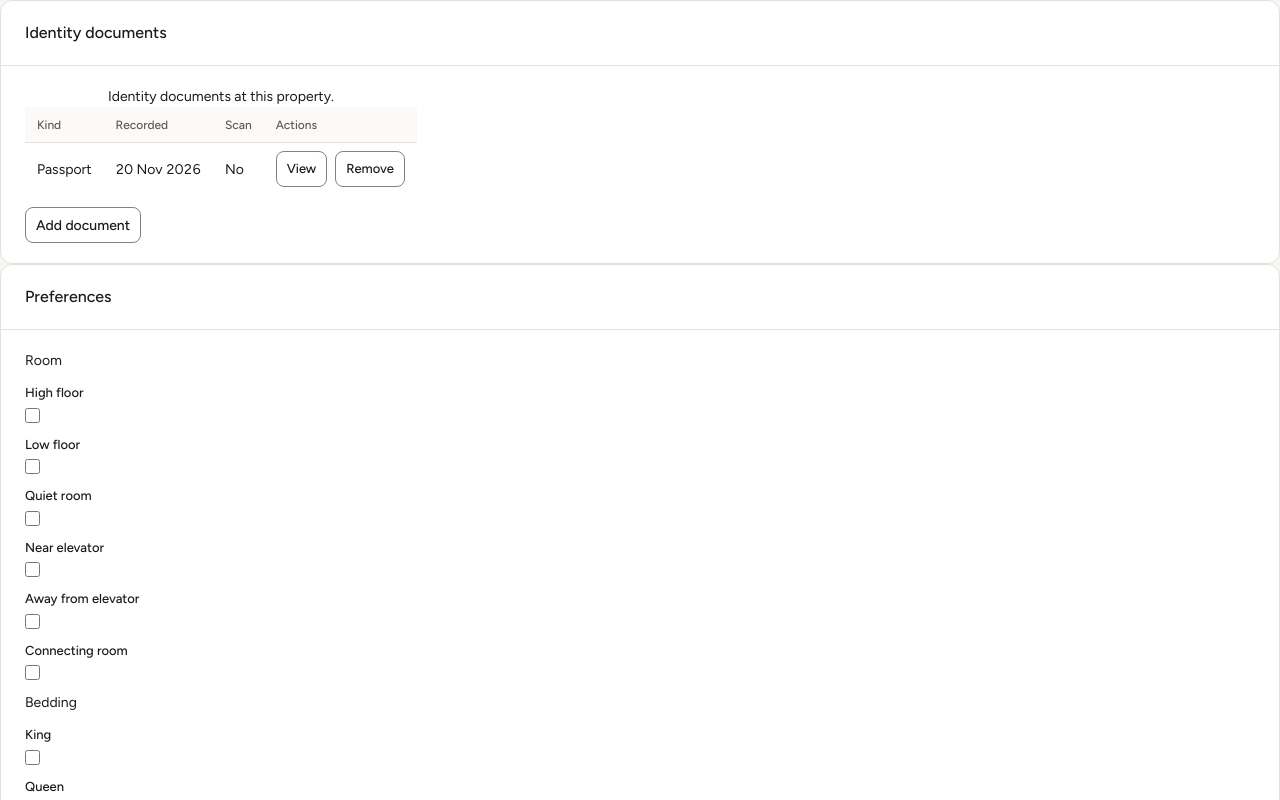
Test: guest identity panels › remove asks for a reason and invalidates the documents key
Click the button "Remove".
click(370, 169)  # box [335, 151, 405, 187]
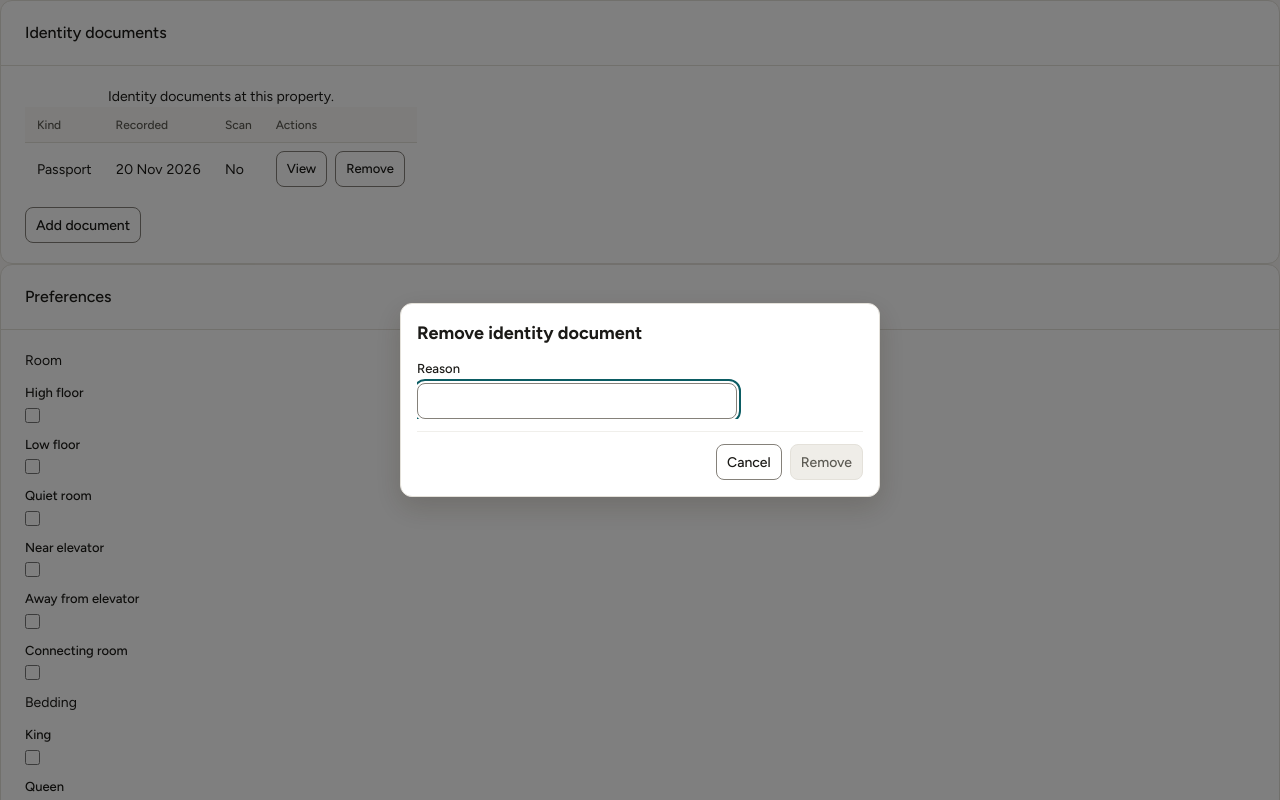
Result: the button "Remove" is disabled at [790, 444, 863, 480]
Type "Replaced" into the field labelled "Reason".
click(577, 401); type("Replaced")  # box [417, 383, 737, 419]
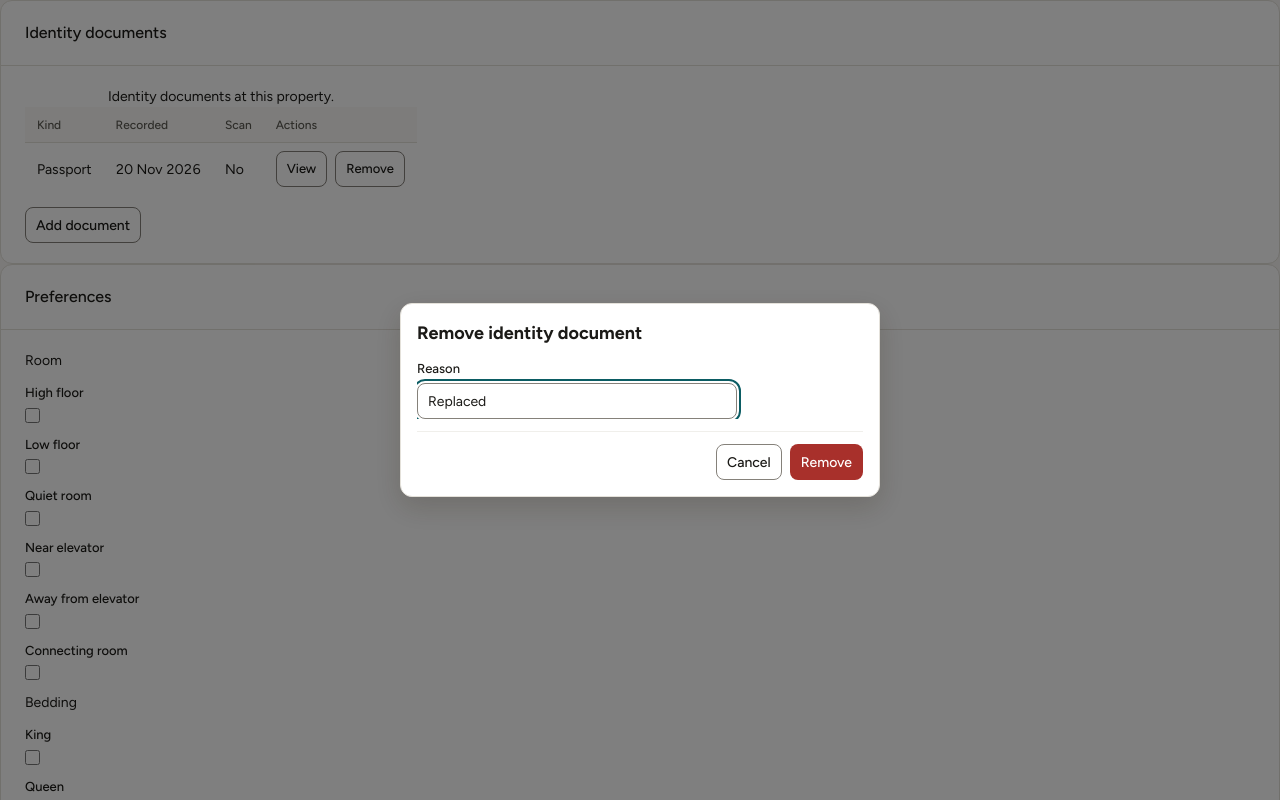
Result: the button "Remove" is enabled
Click the button "Remove".
click(826, 462)  # box [790, 444, 863, 480]
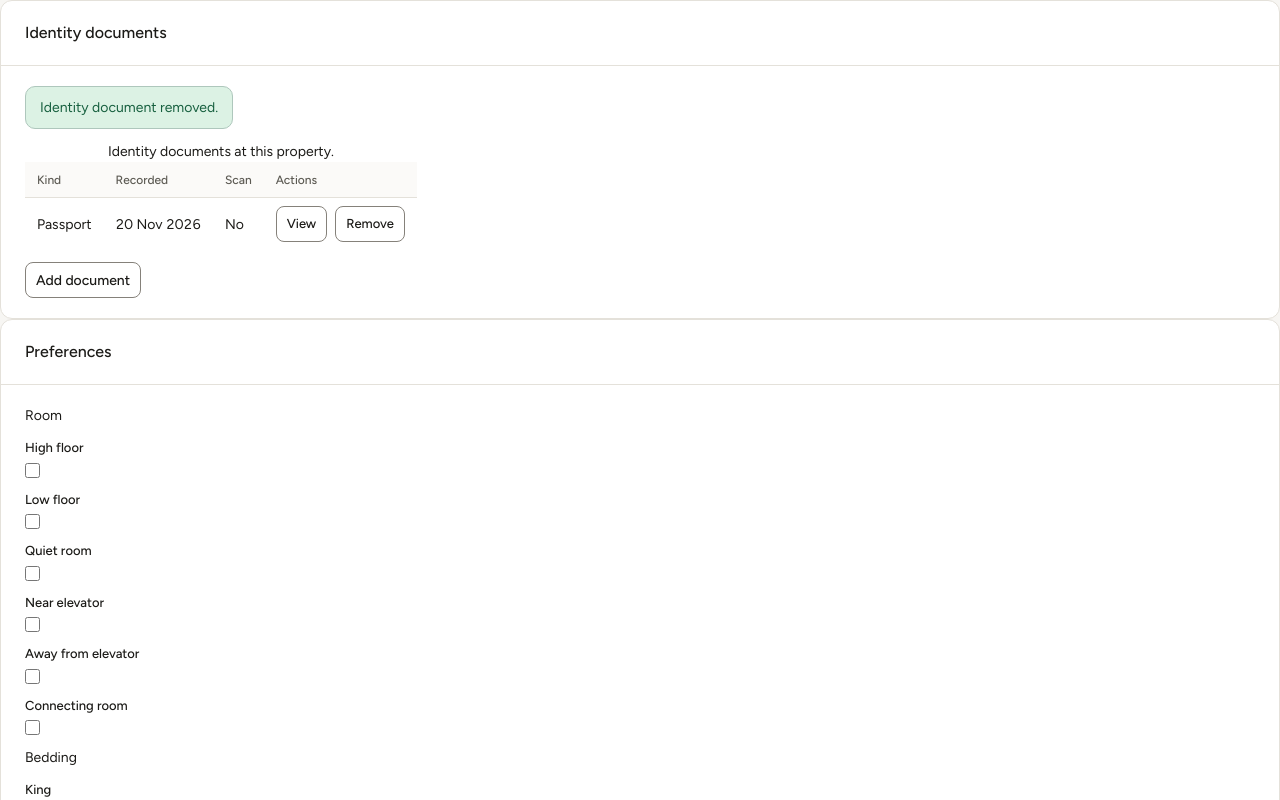
Result: the text "Identity document removed." is shown at [25, 86, 233, 129]
